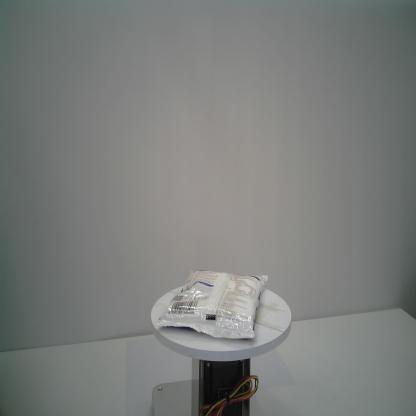Seasoner: (154, 268, 270, 340)
